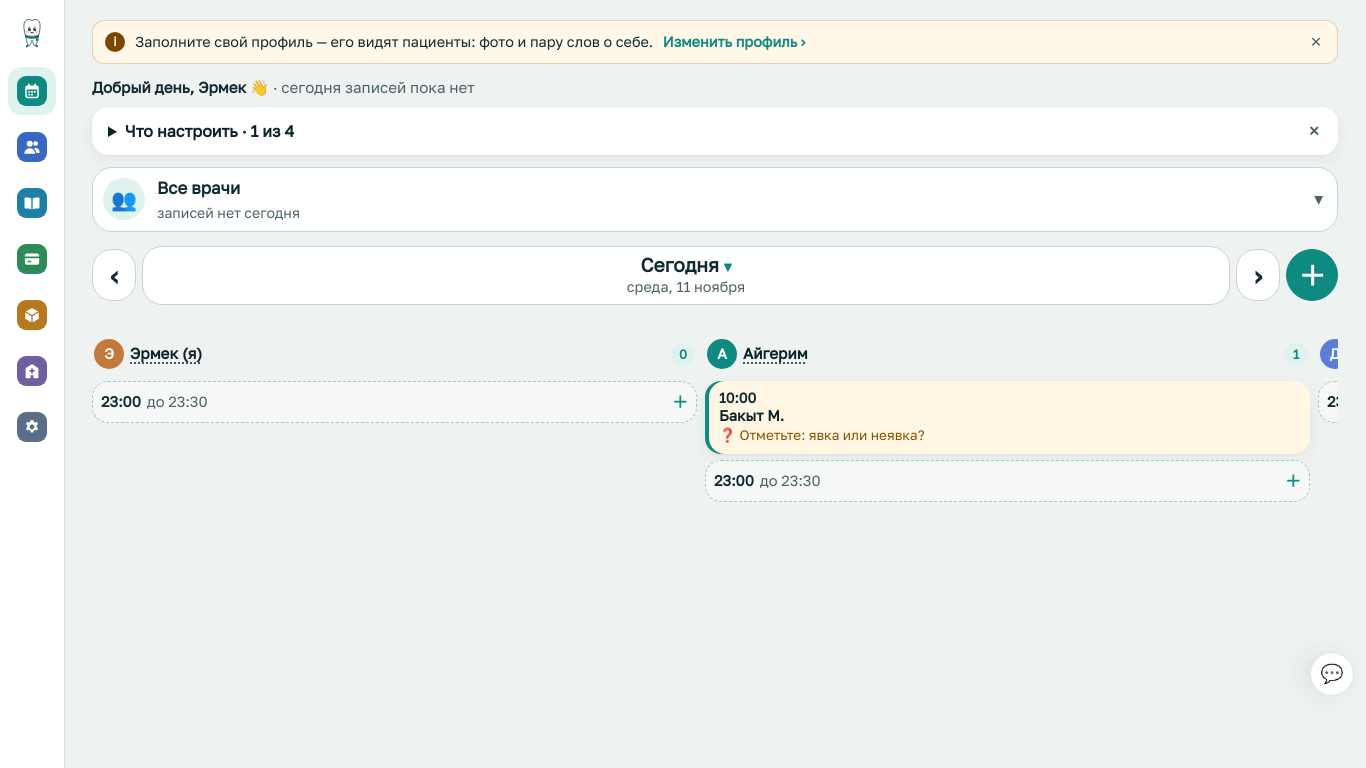
Test case: телефон: «Врачи в расписании…» — ↑ ↓ и «Сохранить»: колонки в новом порядке, на устройстве только id
Earlier steps of the test are not shown.
Expected: the element named "Эрмек Н." is shown, [92,333,697,423]
Click the button with aria-label "Чьё расписание: Все врачи". click: (124, 199)
box: [92,167,1338,232]
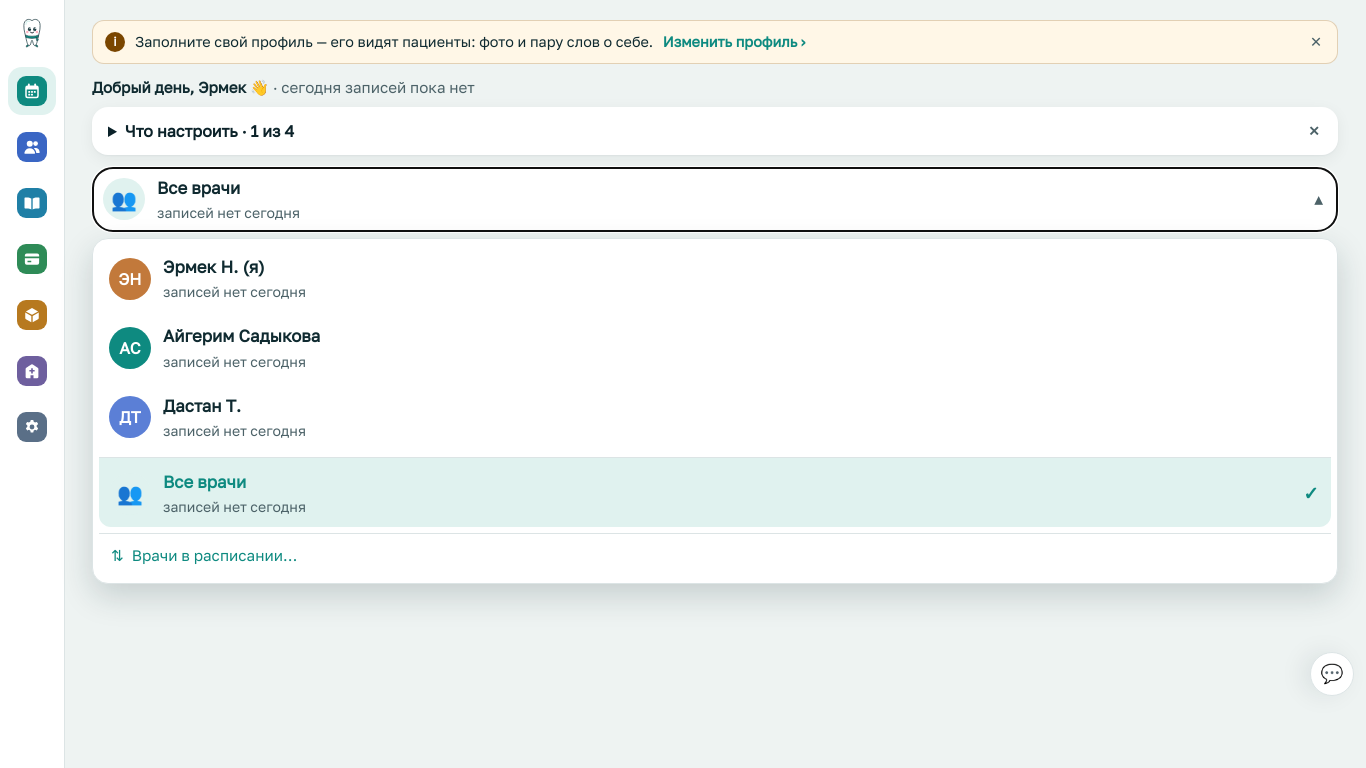
Click the button "⇅ Врачи в расписании…". click: (214, 555)
box: [99,533,1331,577]
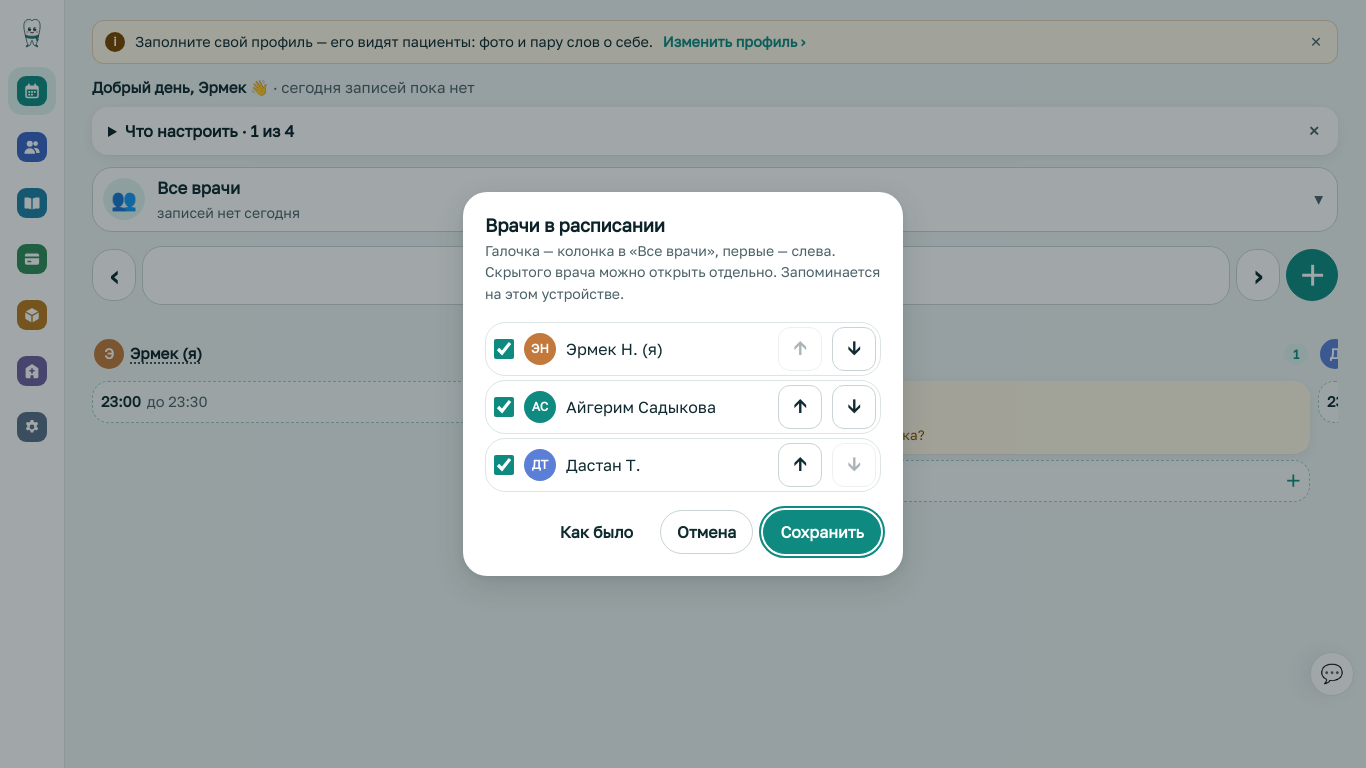
Expected: the button named "Выше: Эрмек Н." is disabled, [778,327,822,371]
Expected: the button named "Ниже: Дастан Т." is disabled, [832,443,876,487]
Click the button named "Выше: Дастан Т.". click: (800, 465)
box: [778,443,822,487]
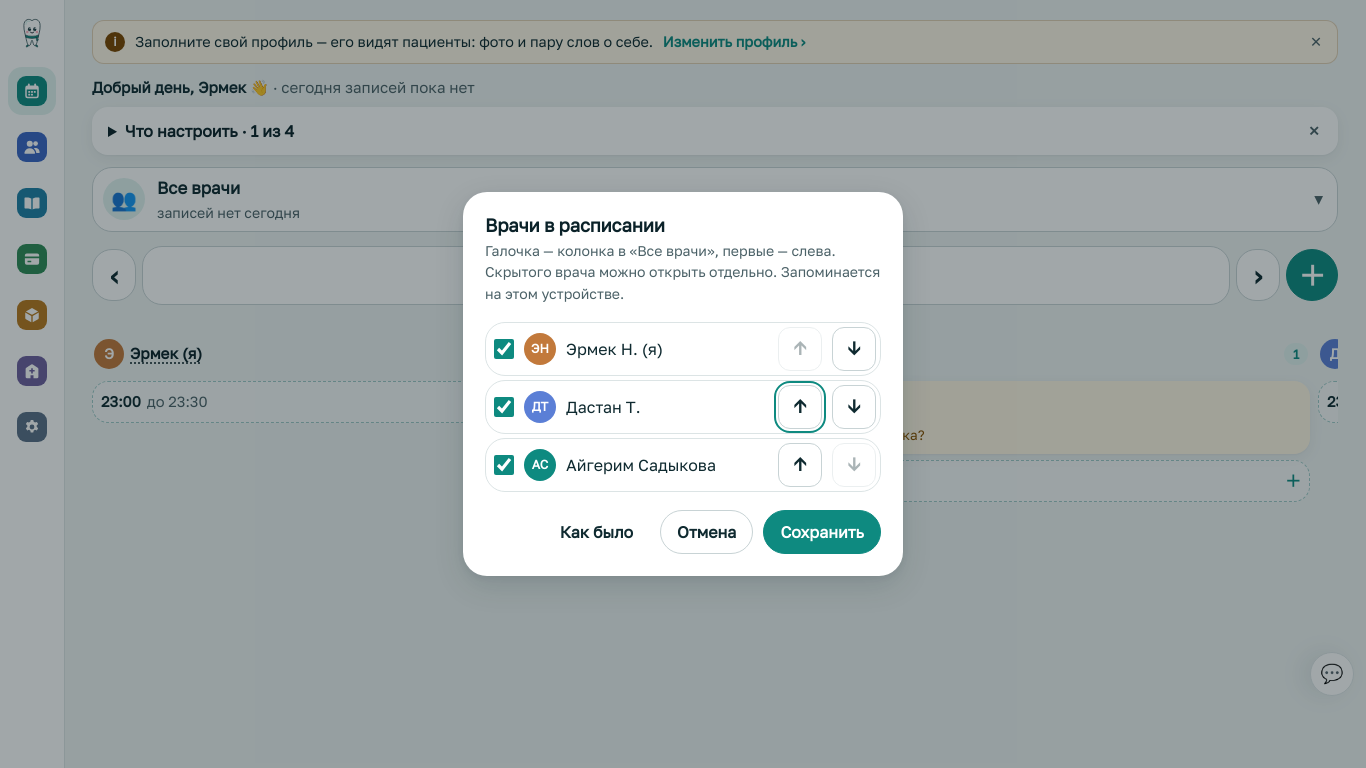
Click the button named "Выше: Дастан Т.". click: (800, 407)
box: [778,385,822,429]
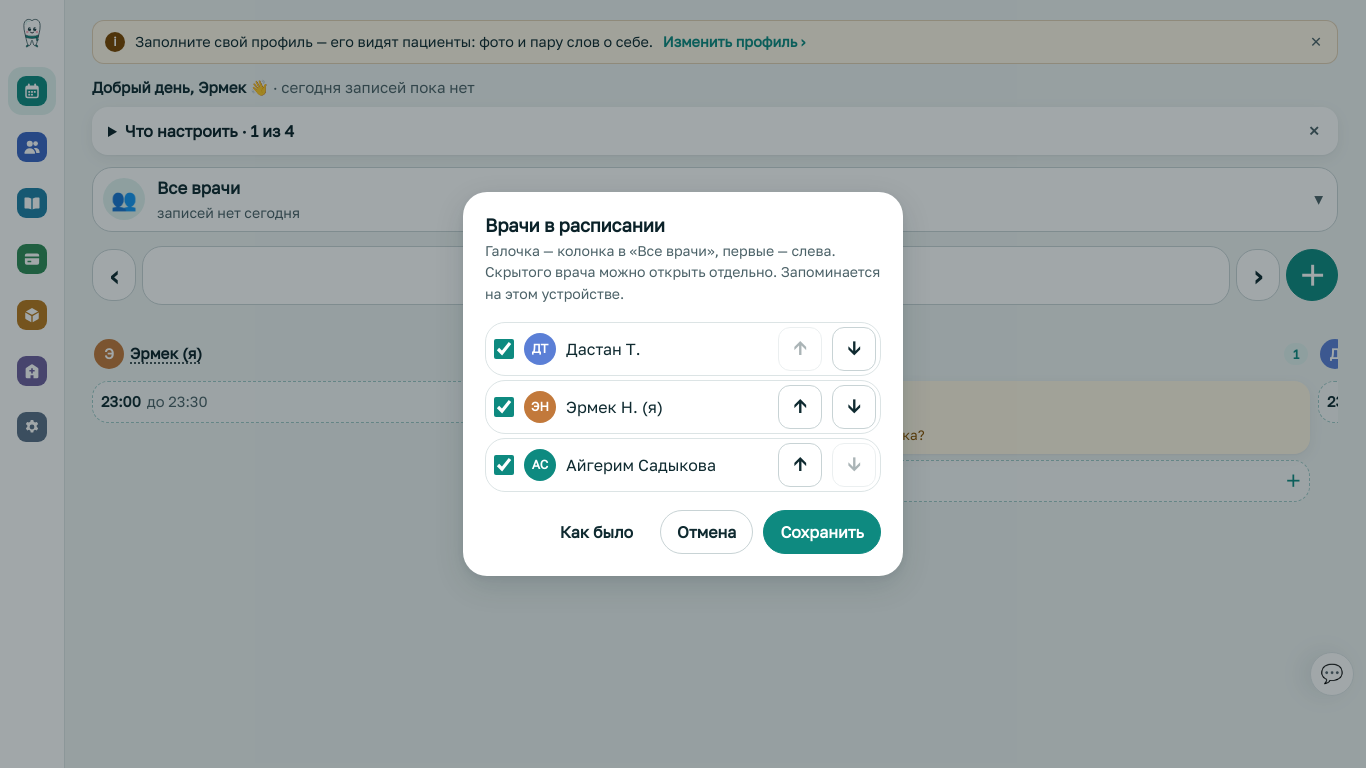
Click the button named "Ниже: Эрмек Н.". click: (854, 407)
box: [832,385,876,429]
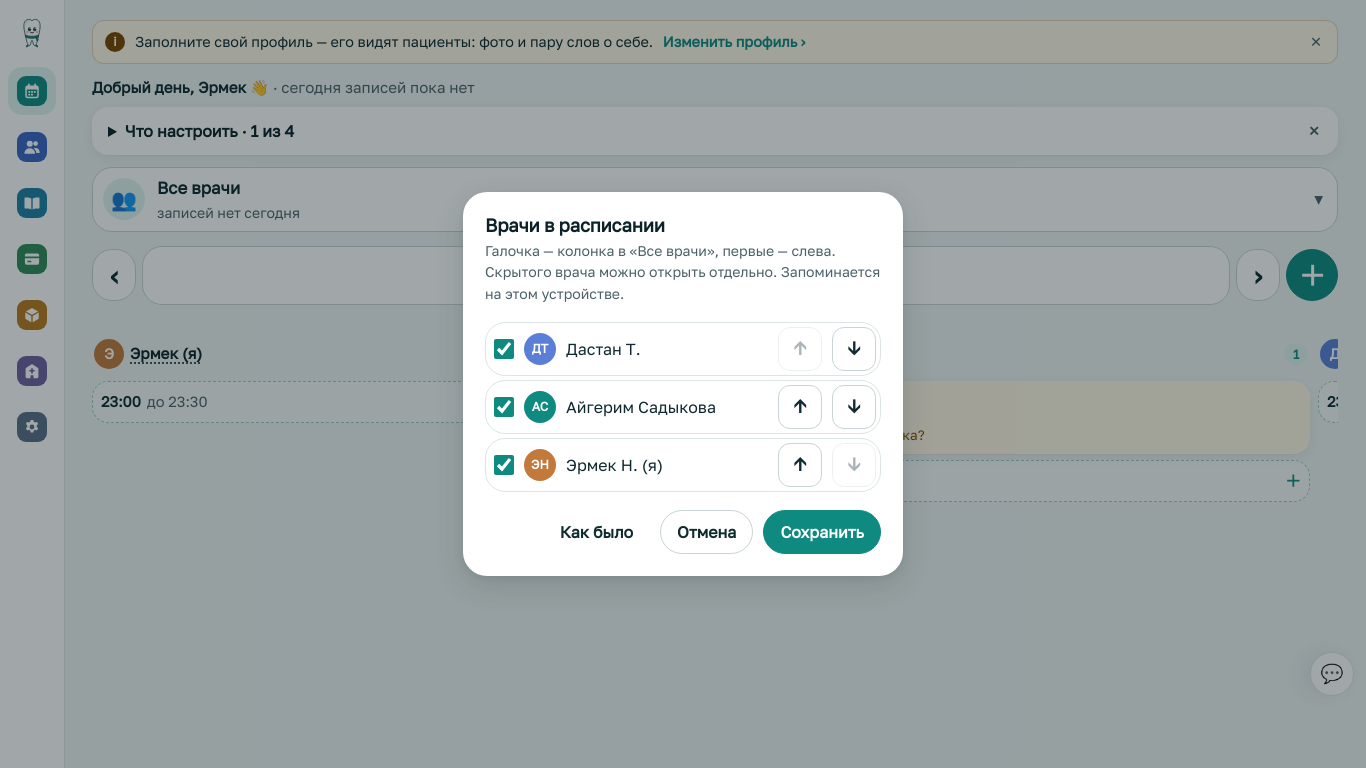
Click the button "Сохранить". click: (822, 532)
box: [763,510,881,554]
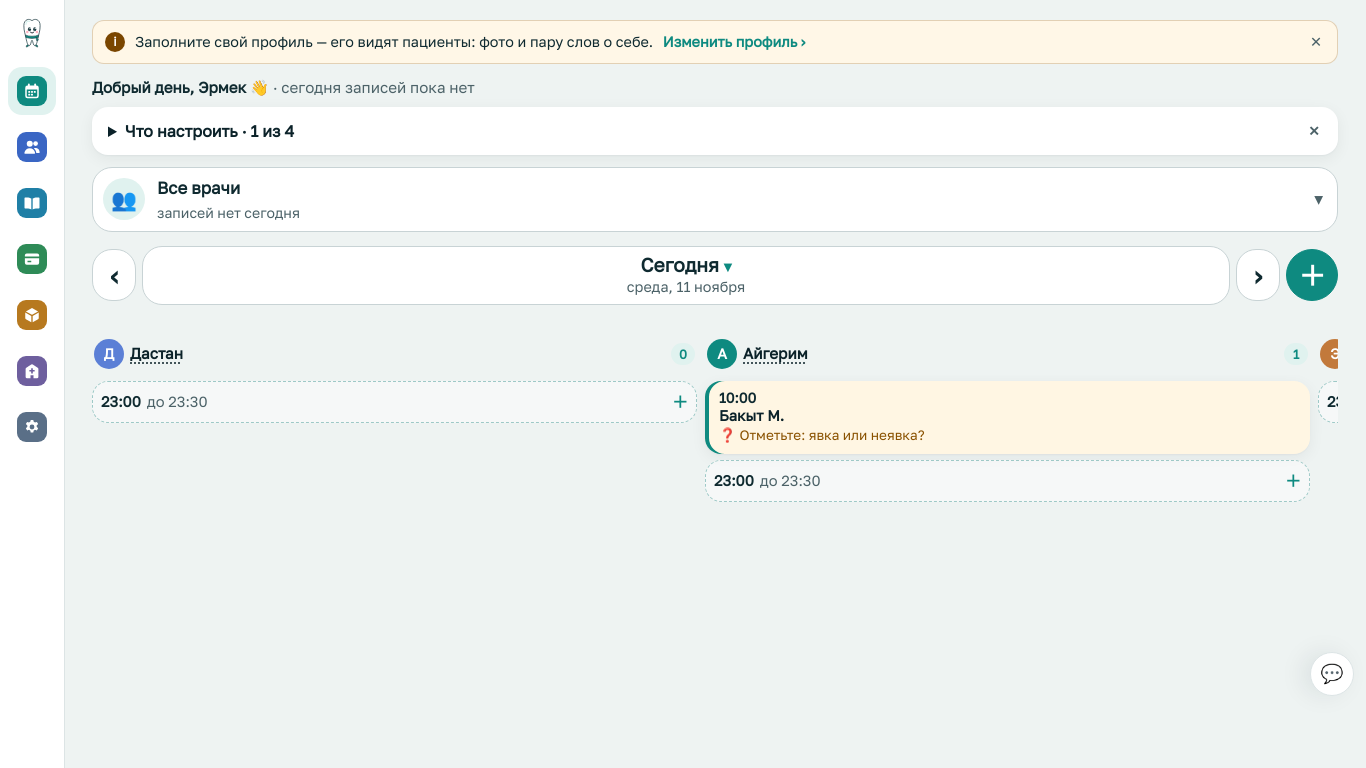
Expected: the heading "Врачи в расписании" is gone
